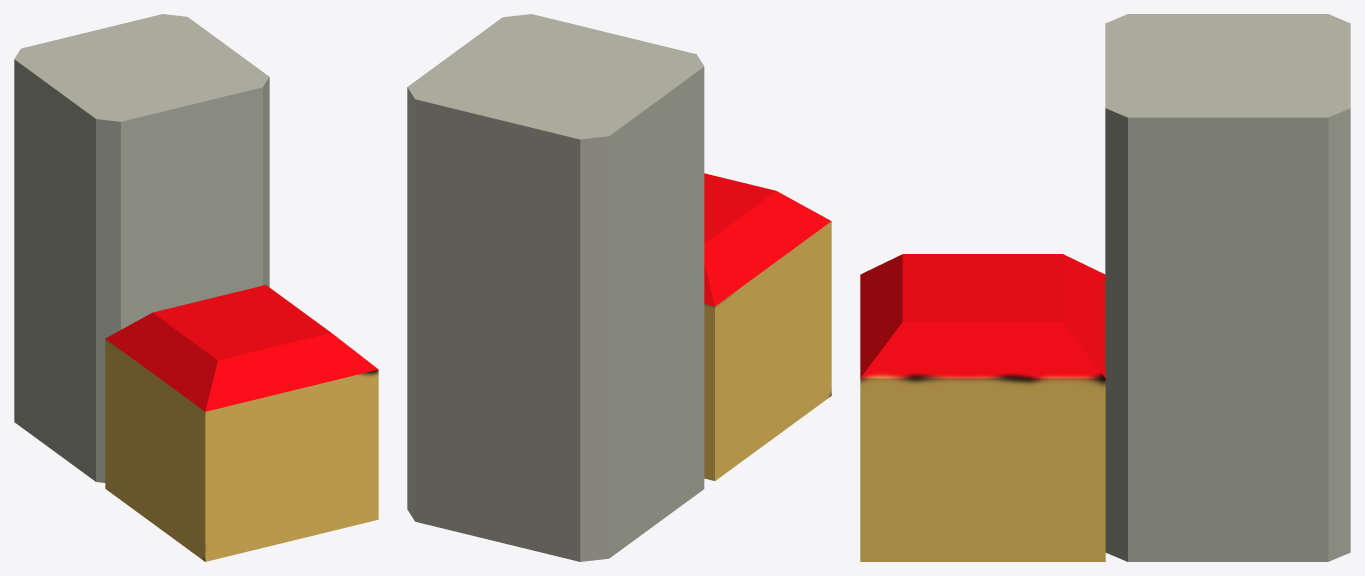
File: temp_buildings.glb
The picture shows the model from 3 angles, left to right: view 1: azimuth 30°, elevation 25°; view 2: azimuth 150°, elevation 25°; view 3: azimuth 270°, elevation 25°; orthographic projection. The views are drawn at different scales.
Visible parts, largest first — view 1: Cube.001, Cube; view 2: Cube.001, Cube; view 3: Cube.001, Cube.
Boxes of the visible parts, x1,y1,x2,y2 form: Cube.001: (14, 14, 269, 482); Cube: (105, 285, 378, 561); Cube.001: (407, 14, 704, 561); Cube: (704, 173, 831, 480); Cube.001: (1105, 14, 1350, 561); Cube: (860, 254, 1105, 561).
Bounding box in the file's own units: 2 × 4 × 4.
2 materials, 2 textured.
